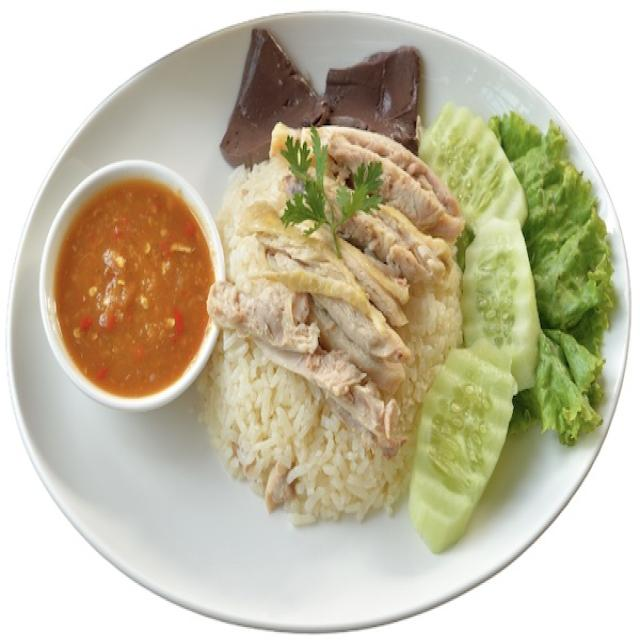Carbohydrate: (200, 134, 462, 526)
Kaow-Mankai: (6, 13, 632, 630)
Protein: (205, 27, 460, 459)
Vegetable: (415, 100, 620, 556)
